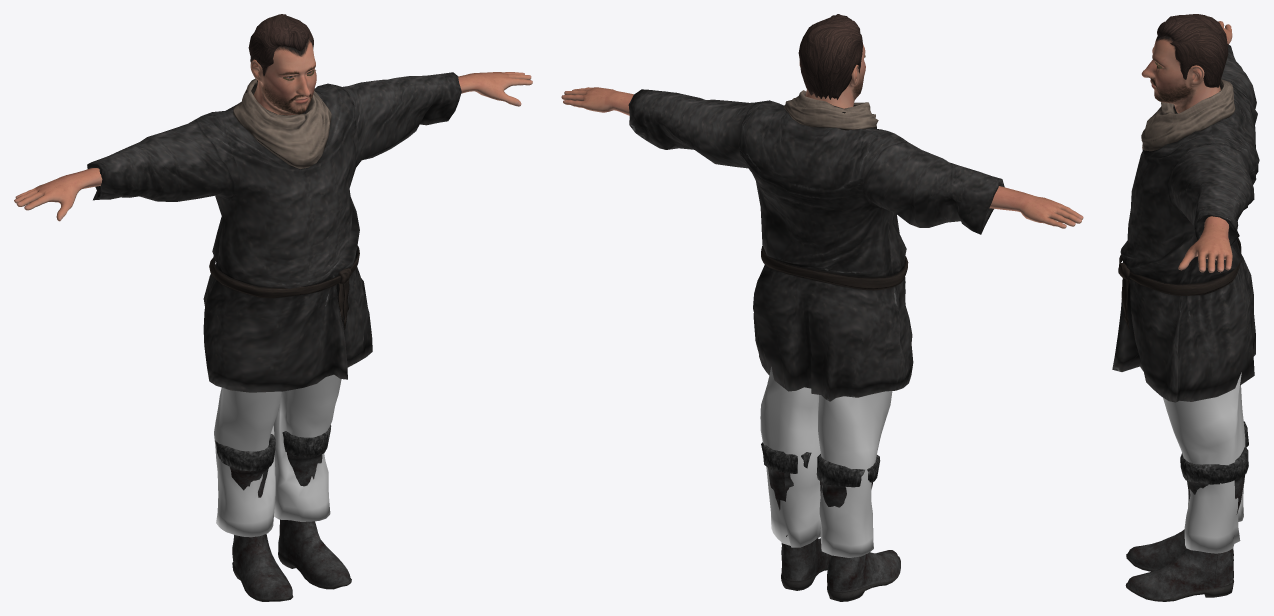
File: male villager.obj
3 renders of one model, left to right at view 1: azimuth 30°, elevation 25°; view 2: azimuth 150°, elevation 25°; view 3: azimuth 270°, elevation 25°, orthographic.
Visible parts, largest first — view 1: Tops, Bottoms, Shoes, Body, Hair; view 2: Tops, Bottoms, Shoes, Body, Hair; view 3: Tops, Bottoms, Shoes, Body, Hair.
Boxes of the visible parts, x1,y1,x2,y2 form: Tops: (87, 72, 461, 392); Bottoms: (214, 374, 341, 537); Shoes: (215, 425, 351, 601); Body: (14, 38, 532, 221); Hair: (248, 14, 313, 82); Tops: (628, 89, 1004, 401); Bottoms: (760, 366, 892, 557); Shoes: (761, 442, 900, 601); Body: (561, 44, 1083, 228); Hair: (798, 14, 862, 99); Tops: (1112, 44, 1259, 402); Bottoms: (1163, 372, 1245, 553); Shoes: (1125, 421, 1248, 601); Body: (1141, 21, 1232, 272); Hair: (1157, 14, 1228, 87).
Size of the model in its own units: 175 by 182 by 43.04.
